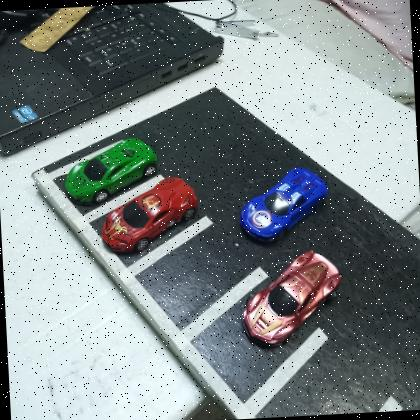Car: (236, 246, 346, 350), (97, 172, 202, 254), (236, 164, 333, 245), (62, 134, 160, 206)
